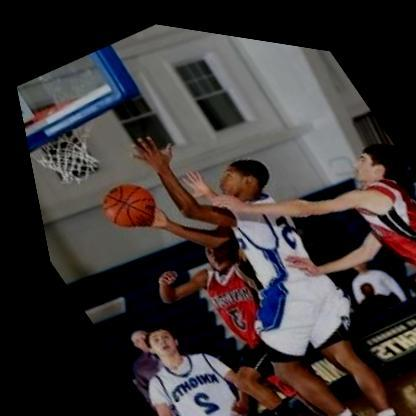basketball: (71, 155, 171, 249)
